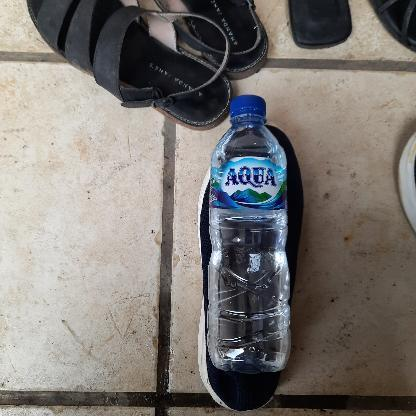Plastic Bottle: (205, 91, 295, 377)
